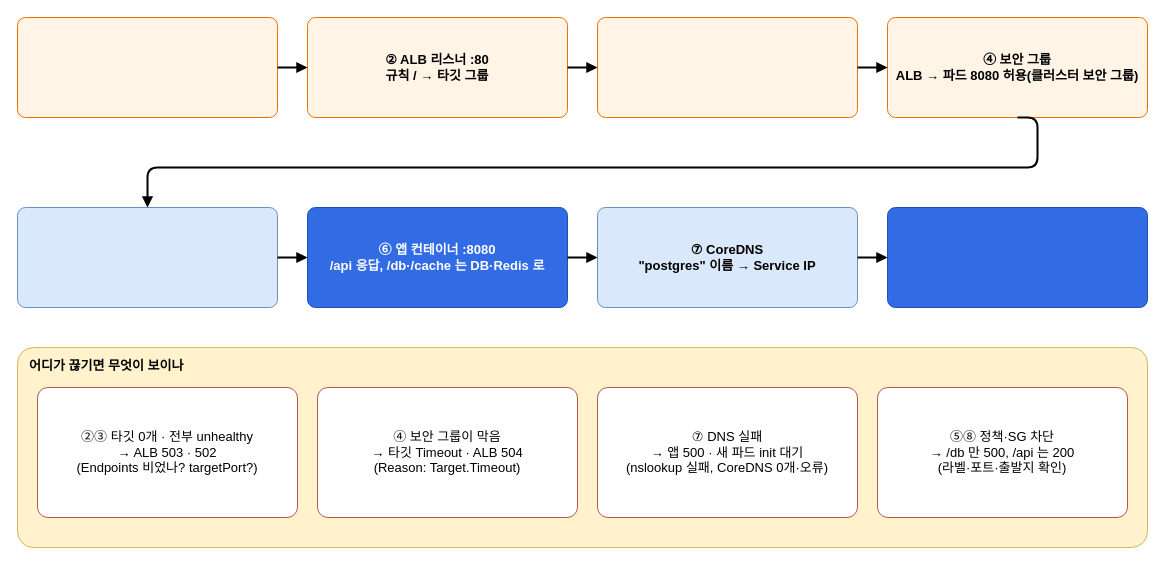
Some shapes in this 1165 by 565 pixel diagram are drawn without their labels. The centre of each missing label's shape, as x and y in pixels:
"① DNS ALB 주소 → 공인 IP" belongs at (x=147, y=67).
"③ 타깃 그룹 healthy 인 파드 IP 만 골라 보낸다 (건강검진 /health)" belongs at (x=727, y=67).
"⑤ NetworkPolicy 파드로 들어오는 통신 허용?" belongs at (x=147, y=257).
"⑧ DB 접속 NetworkPolicy·보안 그룹이 5432 허용?" belongs at (x=1017, y=257).
